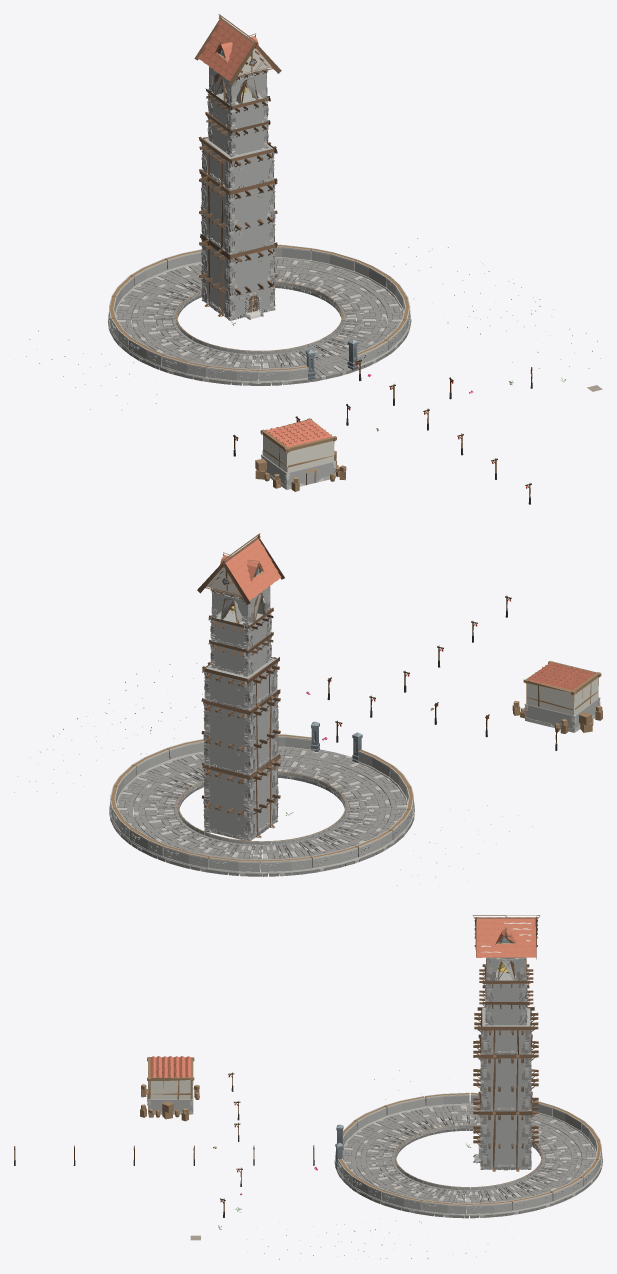
File: chunk_1_2_lod0.glb
The picture shows the model from 3 angles, top to bottom: view 1: azimuth 30°, elevation 25°; view 2: azimuth 150°, elevation 25°; view 3: azimuth 270°, elevation 25°; orthographic projection. The views are drawn at different scales.
Parts seen in each view (by area): view 1: Batched_Chunk_1_2; view 2: Batched_Chunk_1_2; view 3: Batched_Chunk_1_2.
Boxes of the visible parts, left/top/right/bottom form: Batched_Chunk_1_2: left=26, top=14, right=602, bottom=504; Batched_Chunk_1_2: left=14, top=533, right=602, bottom=885; Batched_Chunk_1_2: left=14, top=915, right=602, bottom=1259.
Size of the model in its own units: 88.66 by 51.62 by 112.
29 materials, 1 textured.
